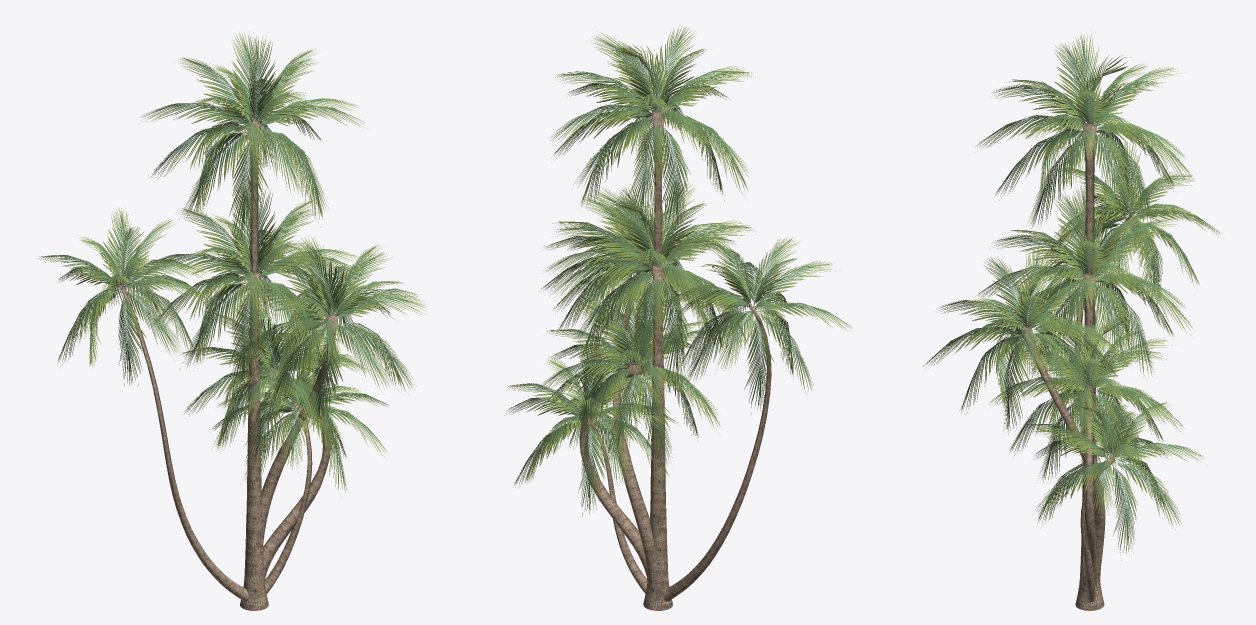
The model's file is m_palm.glb.
The picture shows the model from 3 angles, left to right: view 1: azimuth 30°, elevation 25°; view 2: azimuth 150°, elevation 25°; view 3: azimuth 270°, elevation 25°; orthographic projection. The views are drawn at different scales.
Parts seen in each view (by area): view 1: M_Palm_05, M_Palm_04, M_Palm_01, M_Palm_02, M_Palm_03; view 2: M_Palm_04, M_Palm_05, M_Palm_02, M_Palm_03, M_Palm_01; view 3: M_Palm_05, M_Palm_04, M_Palm_01, M_Palm_02, M_Palm_03.
Part boxes in pixels (x1,y1,x2,y2): M_Palm_05: (141,32,364,610); M_Palm_04: (39,208,388,601); M_Palm_01: (232,234,427,548); M_Palm_02: (147,184,367,395); M_Palm_03: (180,297,369,581); M_Palm_04: (504,233,852,601); M_Palm_05: (550,26,755,610); M_Palm_02: (549,181,759,391); M_Palm_03: (539,293,720,581); M_Palm_01: (539,184,736,583); M_Palm_05: (975,29,1192,610); M_Palm_04: (1028,141,1221,602); M_Palm_01: (923,244,1128,584); M_Palm_02: (975,184,1194,384); M_Palm_03: (989,305,1184,586).
Bounding box in the file's own units: 23.67 × 35 × 19.25.
Materials: 2 (2 with a texture image).
